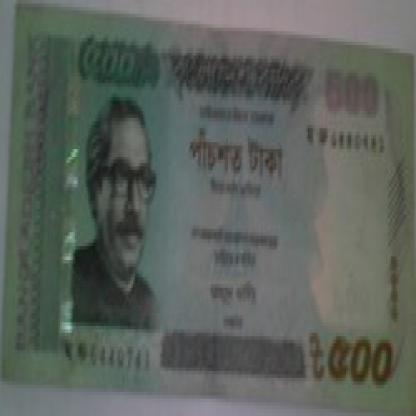500 taka: (74, 24, 166, 101), (191, 121, 288, 191)
currency: (7, 0, 414, 406)
